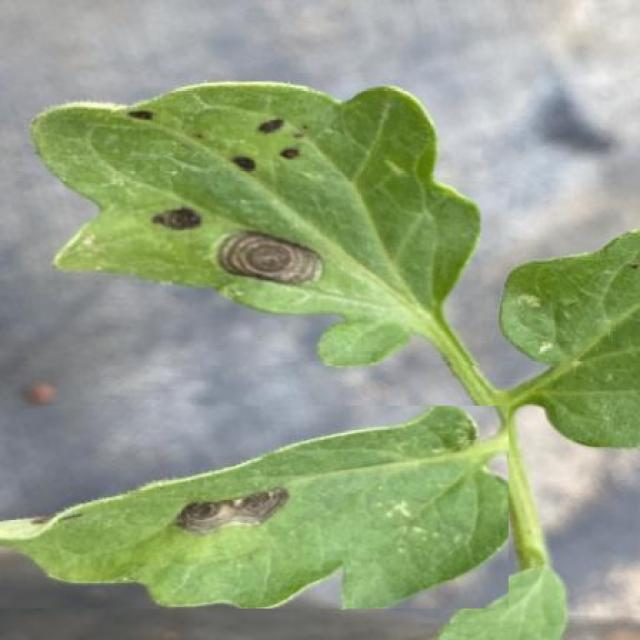Early Blight: (33, 73, 481, 366), (0, 406, 509, 608)
